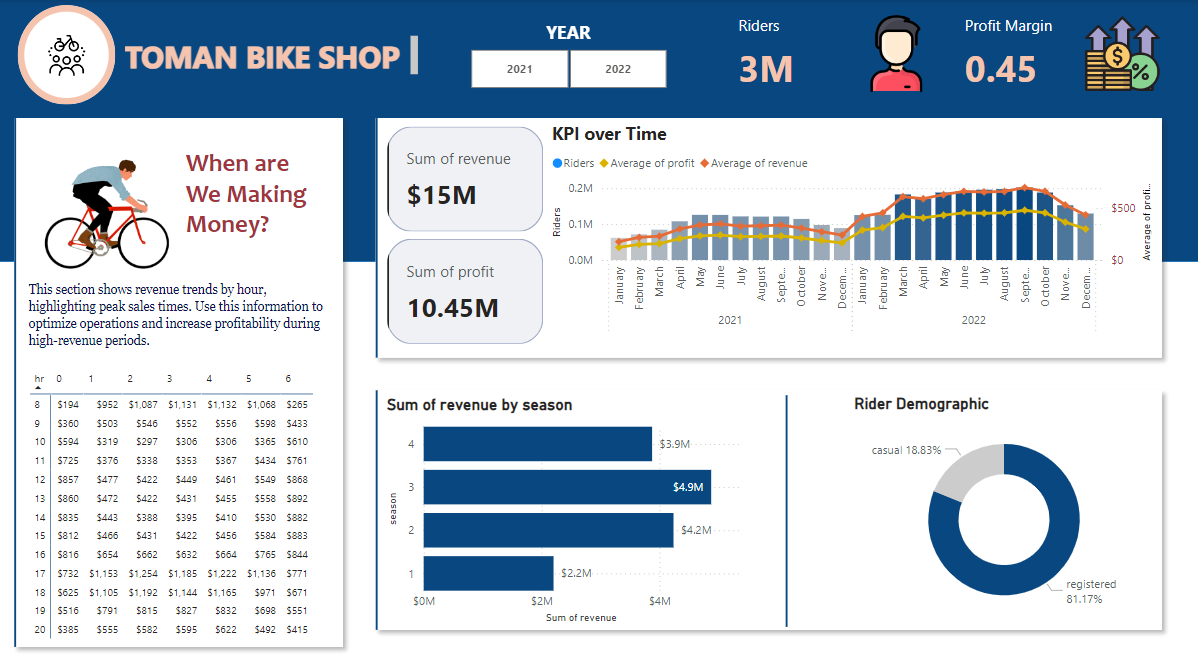

What the dashboard file says about the page in this screenshot:
{"tool":"powerbi","page":{"name":"Page 1","canvas":[1280,720],"ordinal":0},"visuals":[{"type":"shape","box":[0,0,1279.2,280],"z":0},{"type":"cardVisual","fields":{"Data":["Sum(Query1.riders)"]},"box":[0,109.5,384.9,597.5],"z":1000},{"type":"cardVisual","fields":{"Data":["Sum(Query1.riders)"]},"box":[384.9,109.5,871.2,289.9],"z":2000},{"type":"cardVisual","fields":{"Data":["Sum(Query1.riders)"]},"box":[384.9,399.4,871.2,289.9],"z":3000},{"type":"cardVisual","fields":{"Data":["Sum(Query1.riders)"]},"box":[14.5,109.5,173.9,185.2],"z":4000},{"type":"pivotTable","fields":{"Rows":["Query1.hr"],"Values":["Avg(Query1.revenue)"],"Columns":["Query1.weekday"]},"box":[29,388.1,331.7,301.1],"z":5000},{"type":"textbox","box":[194.9,153,159.4,154.6],"z":6000},{"type":"textbox","box":[27.4,294.7,333.4,93.4],"z":7000},{"type":"lineClusteredColumnComboChart","title":"KPI over Time","fields":{"Category":["Query1.dteday.Variation.Date Hierarchy.Year","Query1.dteday.Variation.Date Hierarchy.Month","Query1.dteday.Variation.Date Hierarchy.Day"],"Y":["Sum(Query1.riders)"],"Y2":["Avg(Query1.profit)","Avg(Query1.revenue)"]},"box":[585,130,648.3,243.3],"z":8000},{"type":"clusteredBarChart","fields":{"Category":["Query1.season"],"Y":["Sum(Query1.revenue)"]},"box":[408.3,421.7,396.7,246.7],"z":9000},{"type":"donutChart","title":"Rider Demographic ","fields":{"Category":["Query1.rider_type"],"Y":["Sum(Query1.riders)"]},"box":[906.7,420,328.3,248.3],"z":10000},{"type":"shape","box":[821.7,421.7,36.7,246.7],"z":11000},{"type":"cardVisual","title":"KPI over Time","fields":{"Data":["Sum(Query1.revenue)","Sum(Query1.profit)"]},"box":[408.3,130,176.7,243.3],"z":12000},{"type":"cardVisual","fields":{"Data":["Sum(Query1.riders)","Query1.Profit Margin"]},"box":[771.7,0,485,110],"z":13000},{"type":"shape","box":[21.4,6,104,106],"z":14000},{"type":"image","box":[35.4,28,76,66],"z":15000},{"type":"textbox","box":[130,34,322,52],"z":16000},{"type":"slicer","title":"YEAR","fields":{"Values":["Query1.YEARS"]},"box":[478.3,22.5,257.7,78.9],"z":17000}]}

Visuals, with their boxes in screenshot pixels (x1, y1, x2, y2), scaled from the page's 1280x720 canvas onto the 1198x671 screenshot:
shape: x1=0 y1=0 x2=1197 y2=261
cardVisual - Sum(Query1.riders): x1=0 y1=102 x2=360 y2=659
cardVisual - Sum(Query1.riders): x1=360 y1=102 x2=1176 y2=372
cardVisual - Sum(Query1.riders): x1=360 y1=372 x2=1176 y2=642
cardVisual - Sum(Query1.riders): x1=14 y1=102 x2=176 y2=275
pivotTable - Query1.hr x Avg(Query1.revenue): x1=27 y1=362 x2=338 y2=642
textbox: x1=182 y1=143 x2=332 y2=287
textbox: x1=26 y1=275 x2=338 y2=362
"KPI over Time" lineClusteredColumnComboChart: x1=548 y1=121 x2=1154 y2=348
clusteredBarChart - Query1.season x Sum(Query1.revenue): x1=382 y1=393 x2=753 y2=623
"Rider Demographic " donutChart: x1=849 y1=391 x2=1156 y2=623
shape: x1=769 y1=393 x2=803 y2=623
"KPI over Time" cardVisual: x1=382 y1=121 x2=548 y2=348
cardVisual - Sum(Query1.riders) x Query1.Profit Margin: x1=722 y1=0 x2=1176 y2=103
shape: x1=20 y1=6 x2=117 y2=104
image: x1=33 y1=26 x2=104 y2=88
textbox: x1=122 y1=32 x2=423 y2=80
"YEAR" slicer: x1=448 y1=21 x2=689 y2=94
